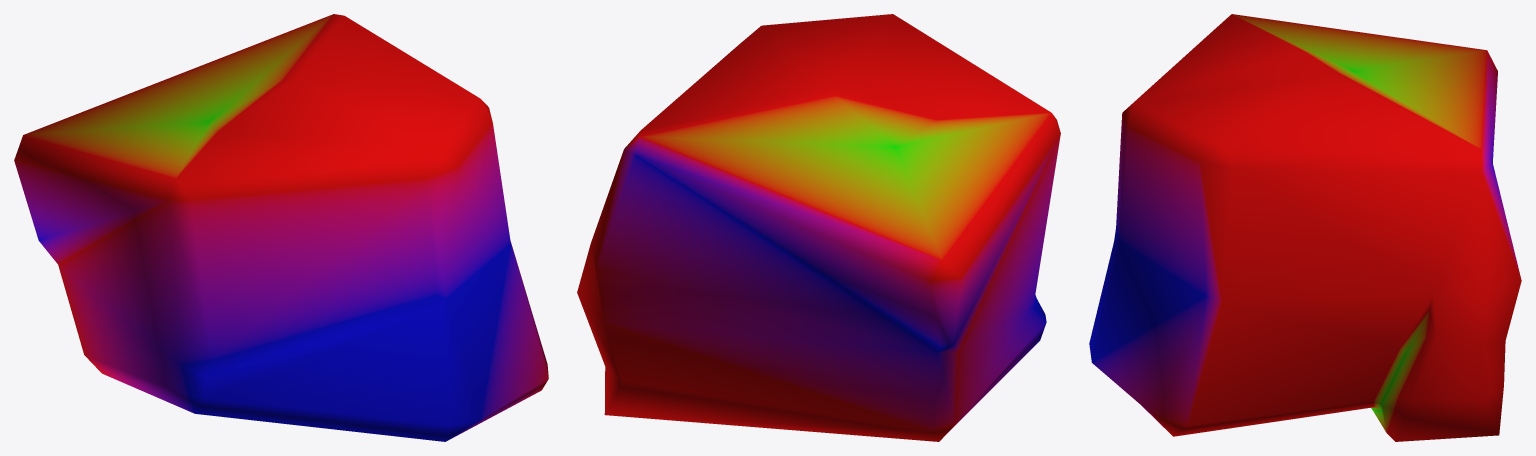
The model's file is M_Rock_Middle_A.fbx.
The picture shows the model from 3 angles, left to right: view 1: azimuth 30°, elevation 25°; view 2: azimuth 150°, elevation 25°; view 3: azimuth 270°, elevation 25°; orthographic projection. The views are drawn at different scales.
Parts seen in each view (by area): view 1: Rock_Middle_A; view 2: Rock_Middle_A; view 3: Rock_Middle_A.
Boxes of the visible parts, x1,y1,x2,y2 form: Rock_Middle_A: (14,14,548,441); Rock_Middle_A: (577,14,1060,441); Rock_Middle_A: (1089,14,1521,441).
Bounding box in the file's own units: 252 × 196 × 251.
